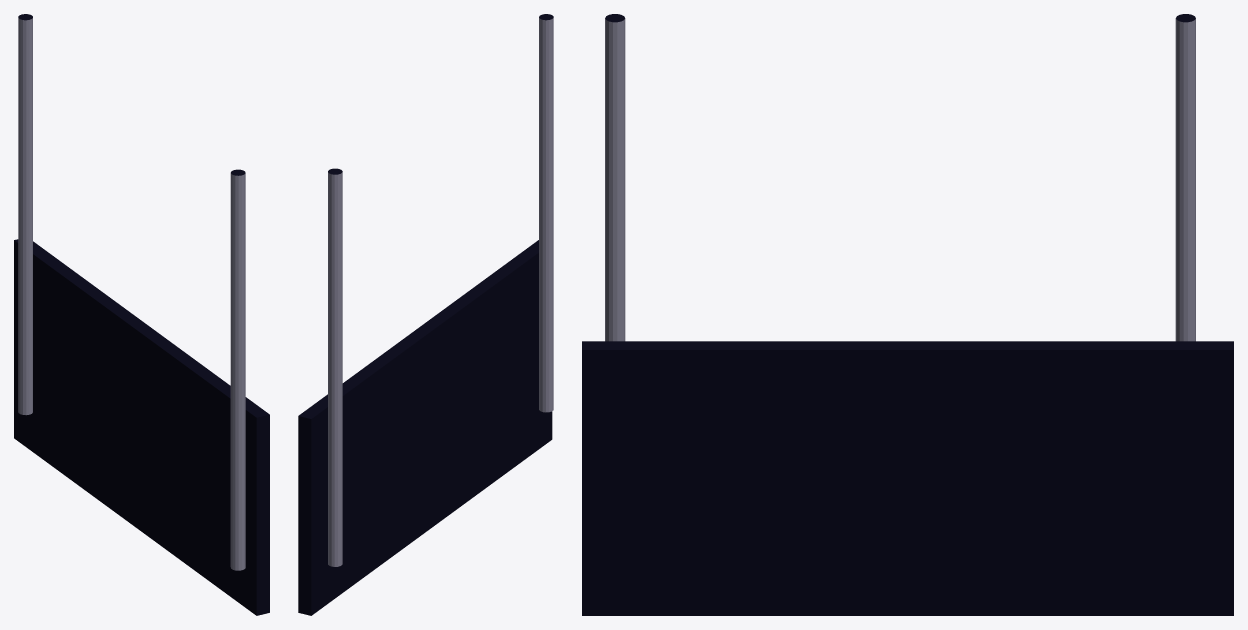
File: SM_add_board_hanging.fbx
3 renders of one model, left to right at view 1: azimuth 30°, elevation 25°; view 2: azimuth 150°, elevation 25°; view 3: azimuth 270°, elevation 25°, orthographic. The views are drawn at different scales.
Parts seen in each view (by area): view 1: ADD BOARD hanging; view 2: ADD BOARD hanging; view 3: ADD BOARD hanging.
Part boxes in pixels (x1,y1,x2,y2): ADD BOARD hanging: (14,14,269,615); ADD BOARD hanging: (298,14,553,615); ADD BOARD hanging: (582,14,1233,615).
Size of the model in its own units: 17.97 by 290 by 293.
